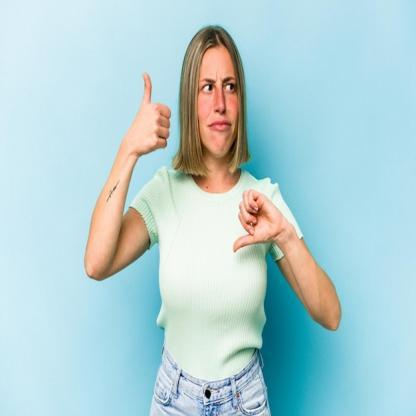thumb_down: (228, 186, 282, 256)
thumb_up: (127, 70, 173, 156)
